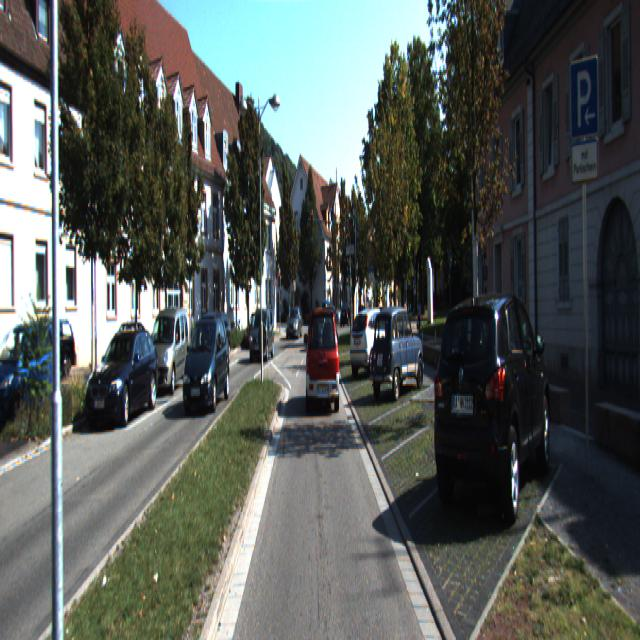Car: (432, 288, 554, 534), (85, 328, 160, 432), (0, 322, 61, 431), (369, 305, 426, 405), (6, 315, 78, 385), (182, 314, 231, 415), (144, 308, 190, 400), (307, 310, 341, 416), (349, 308, 398, 376), (200, 311, 232, 367), (250, 309, 275, 363), (243, 313, 269, 351), (286, 308, 304, 341), (341, 302, 353, 328)
